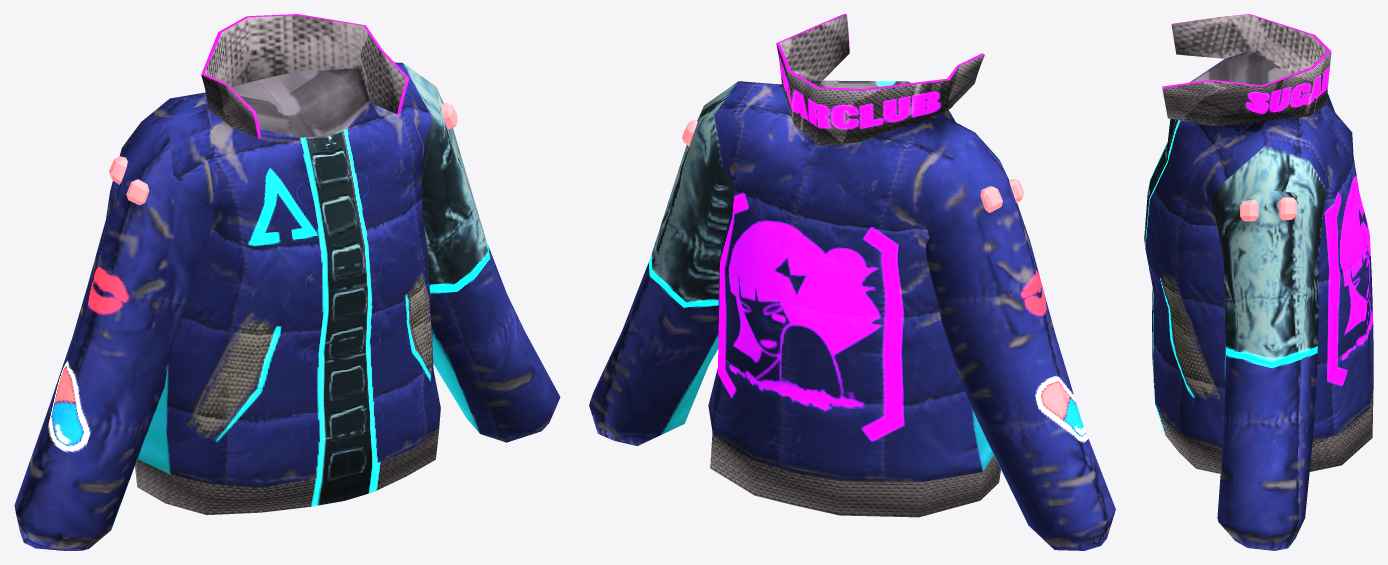
File: neonpunk.glb
3 views of the same model, side by side, from view 1: azimuth 30°, elevation 25°; view 2: azimuth 150°, elevation 25°; view 3: azimuth 270°, elevation 25° (orthographic). The views are drawn at different scales.
Parts seen in each view (by area): view 1: CPjacket_male.001; view 2: CPjacket_male.001; view 3: CPjacket_male.001.
Boxes of the visible parts, x1,y1,x2,y2 form: CPjacket_male.001: (14, 14, 560, 550); CPjacket_male.001: (589, 14, 1115, 550); CPjacket_male.001: (1144, 14, 1373, 550).
Bounding box in the file's own units: 0.7338 × 0.5911 × 0.3089.
Materials: 2 (2 with a texture image).
